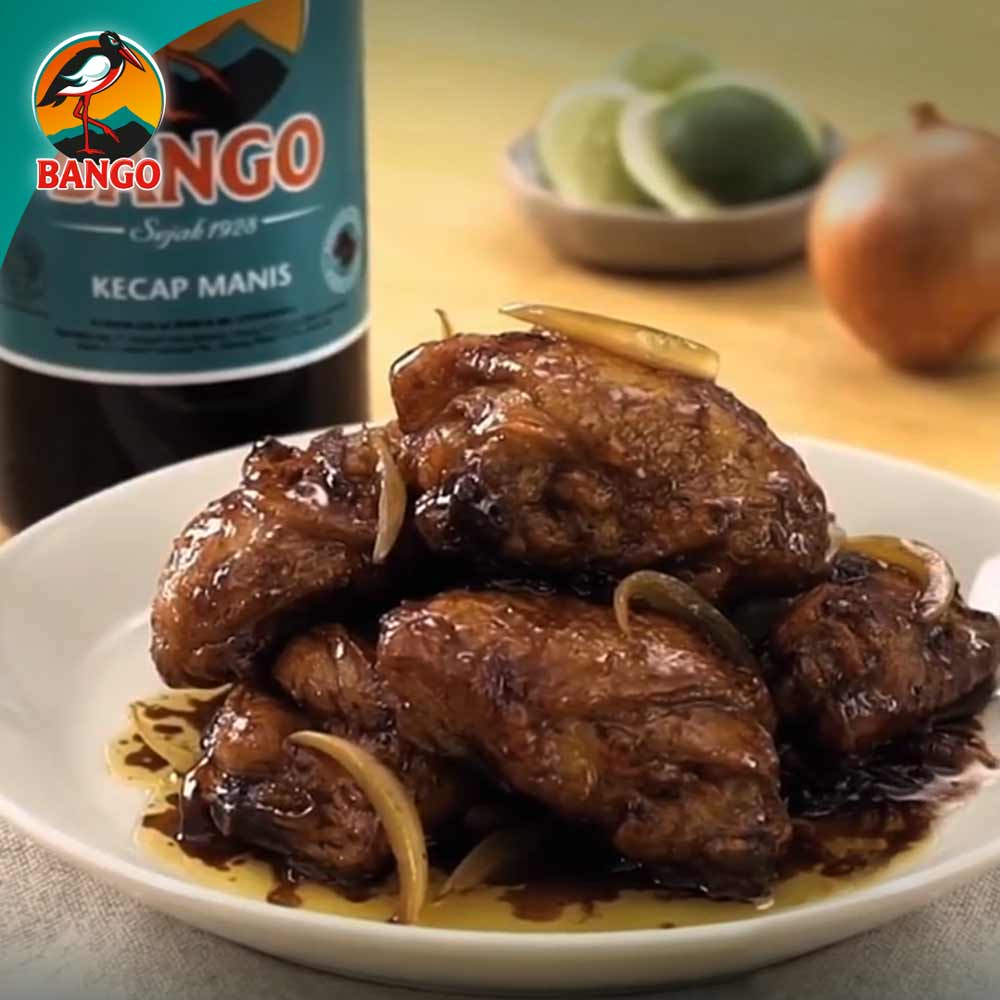Ayam: (162, 263, 810, 644), (421, 565, 802, 833)
